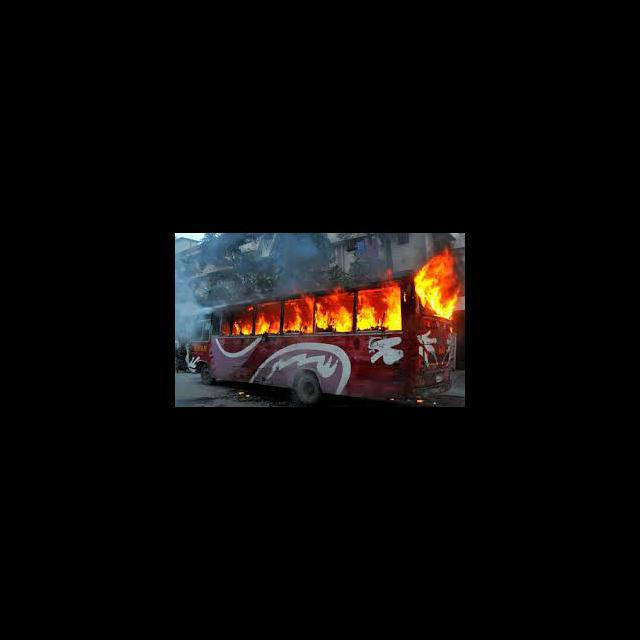Fire: (412, 250, 463, 318), (357, 286, 402, 332), (315, 291, 355, 333), (282, 296, 314, 334), (256, 299, 282, 336), (235, 310, 252, 335)
Smoke: (176, 259, 204, 344), (270, 236, 318, 283)
